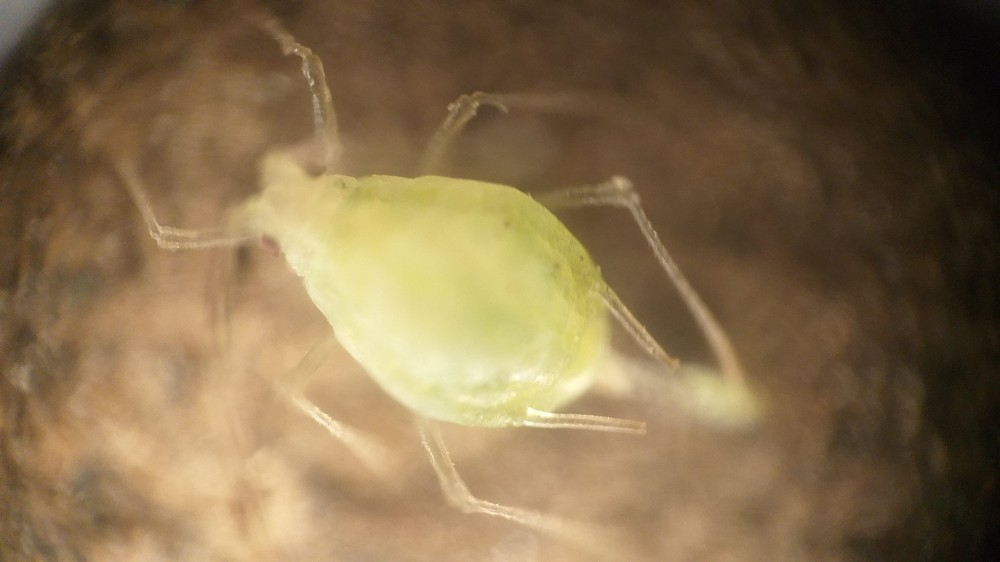Pulgon: (106, 10, 773, 535)
